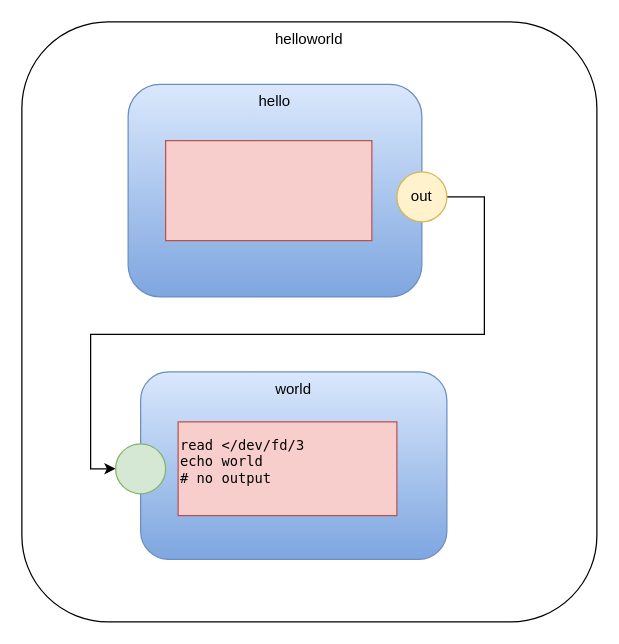
Some shapes in this 619 by 644 pixel diagram are drawn without their labels. The box of each missing label's shape, as (x1, y1, x2, y2) in pixels:
echo goodbye echo done >/dev/fd/4: (164, 139, 372, 241)
in: (114, 442, 166, 494)
